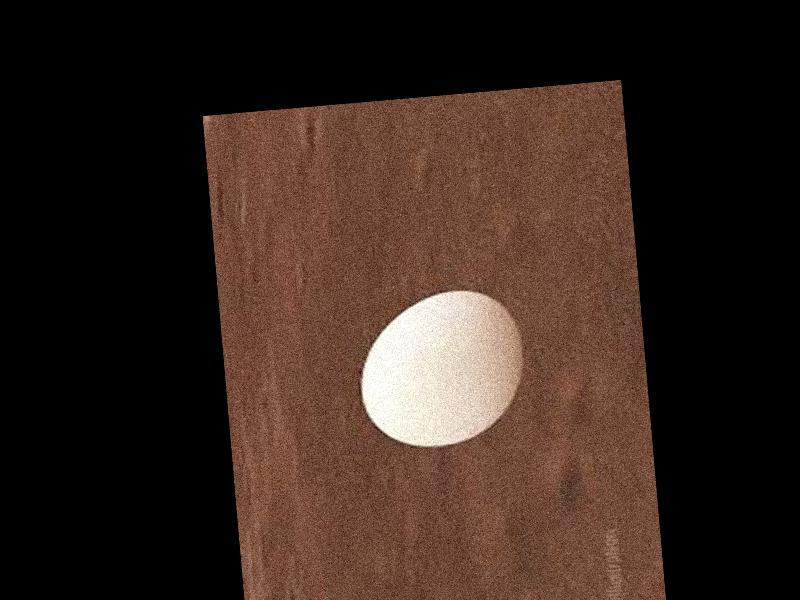Eggs: (354, 284, 529, 453)
